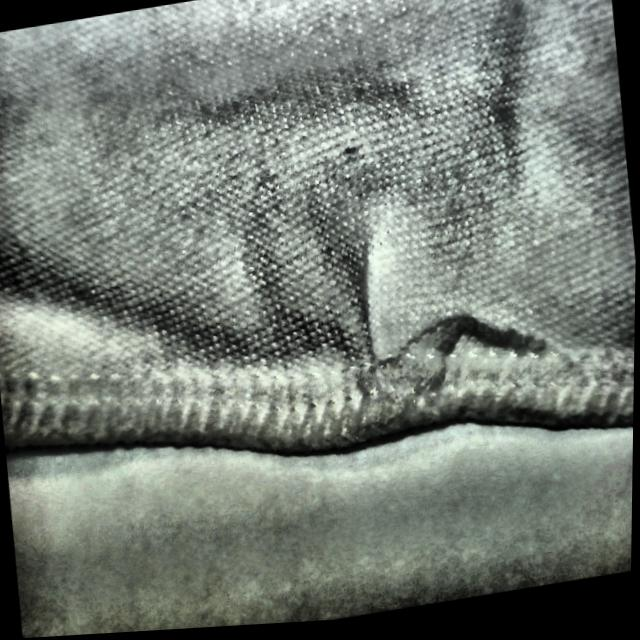seam: (331, 257, 558, 443)
